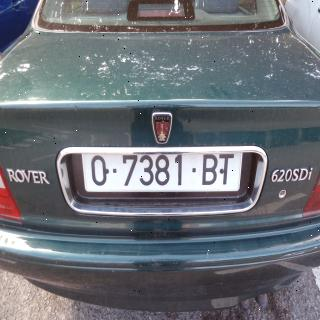license: (80, 153, 241, 201)
